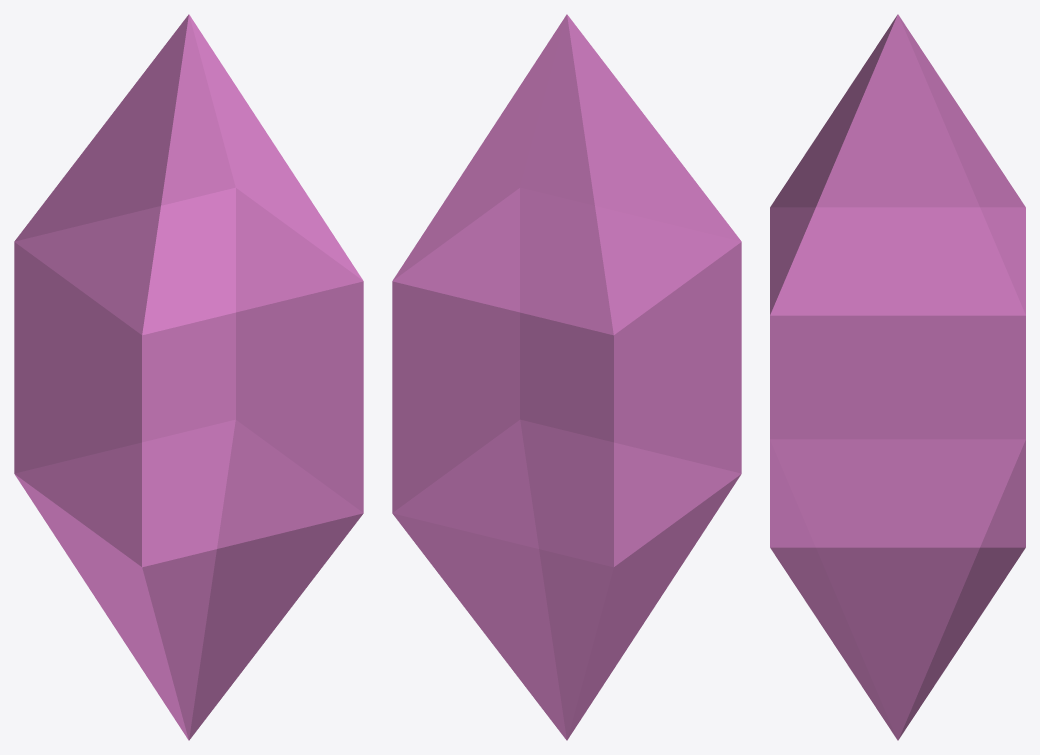
Rendered from crystal.fbx.
3 views of the same model, side by side, from view 1: azimuth 30°, elevation 25°; view 2: azimuth 150°, elevation 25°; view 3: azimuth 270°, elevation 25° (orthographic).
Parts seen in each view (by area): view 1: crystal; view 2: crystal; view 3: crystal.
Boxes of the visible parts, x1,y1,x2,y2 form: crystal: [14, 14, 363, 740]; crystal: [392, 14, 741, 740]; crystal: [770, 14, 1025, 740].
Size of the model in its own units: 1 by 3.13 by 1.
